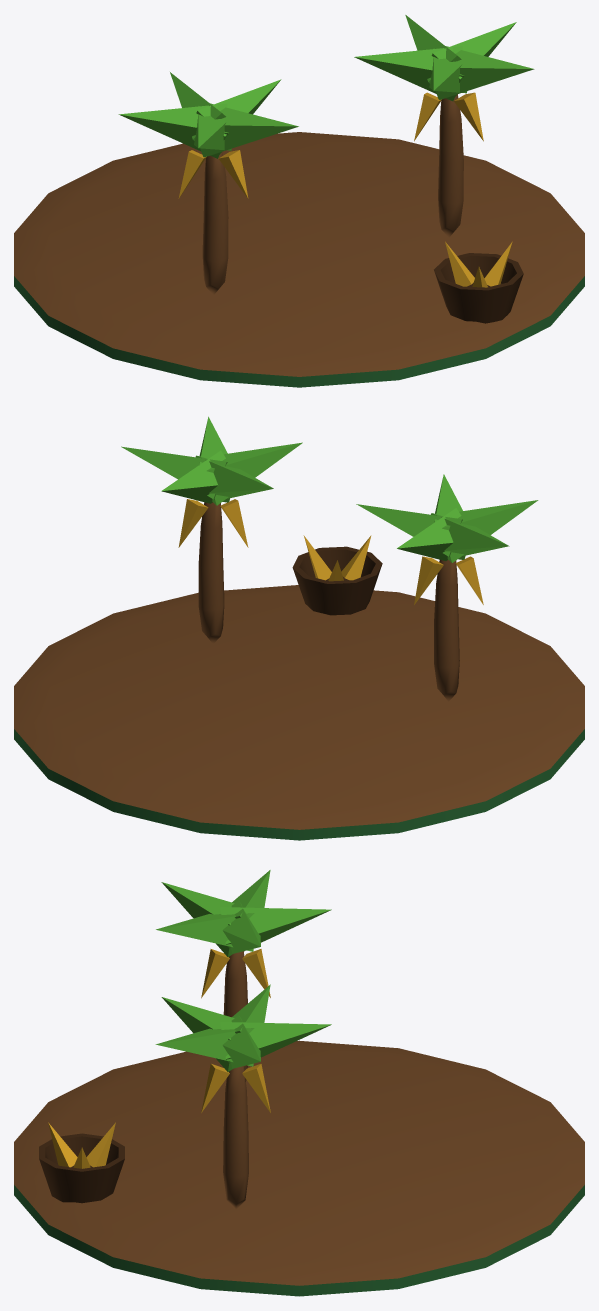
The picture shows the model from 3 angles, top to bottom: view 1: azimuth 30°, elevation 25°; view 2: azimuth 150°, elevation 25°; view 3: azimuth 270°, elevation 25°; orthographic projection.
Visible parts, largest first — view 1: fazenda_0_base; view 2: fazenda_0_base; view 3: fazenda_0_base.
Part boxes in pixels (x1,y1,x2,y2): fazenda_0_base: [14, 15, 584, 387]; fazenda_0_base: [14, 416, 584, 840]; fazenda_0_base: [14, 870, 584, 1296].
Bounding box in the file's own units: 1.28 × 0.5151 × 1.26.
